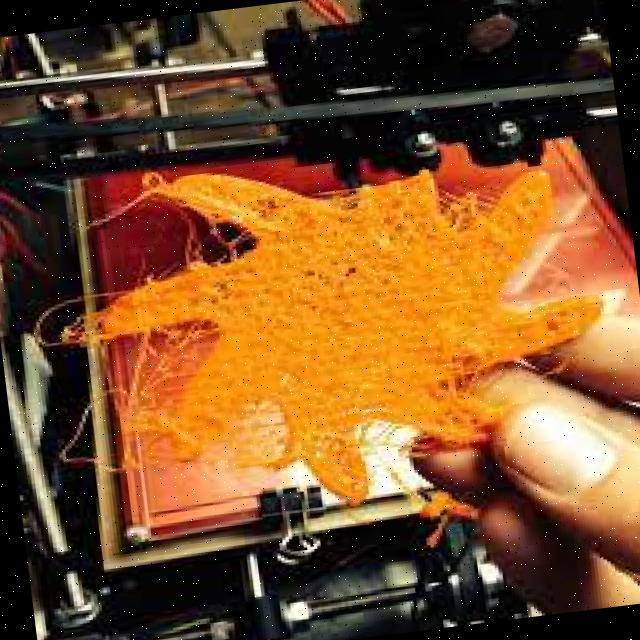spaghetti: (5, 110, 606, 560)
